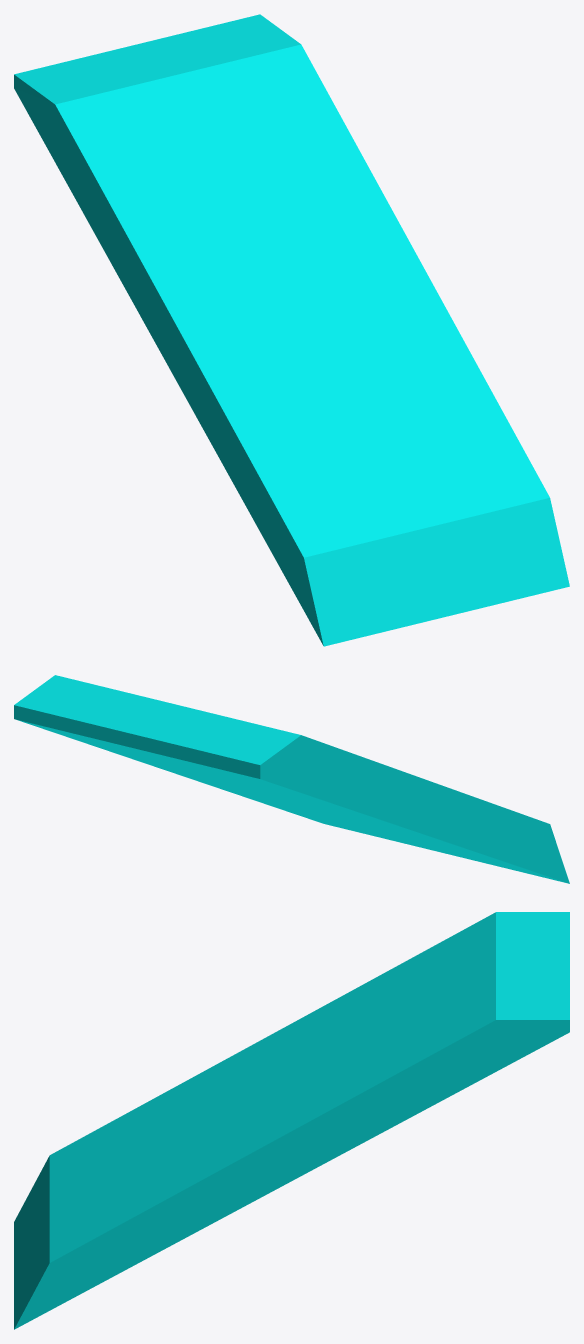
Rendered from SM_Bld_Stairs_03_Collision.fbx.
3 renders of one model, top to bottom at view 1: azimuth 30°, elevation 25°; view 2: azimuth 150°, elevation 25°; view 3: azimuth 270°, elevation 25°, orthographic. The views are drawn at different scales.
Parts seen in each view (by area): view 1: SM_Bld_Stairs_03_Collision; view 2: SM_Bld_Stairs_03_Collision; view 3: SM_Bld_Stairs_03_Collision.
Boxes of the visible parts, left/top/right/bottom form: SM_Bld_Stairs_03_Collision: left=14, top=14, right=569, bottom=646; SM_Bld_Stairs_03_Collision: left=14, top=675, right=569, bottom=883; SM_Bld_Stairs_03_Collision: left=14, top=912, right=569, bottom=1329.
Size of the model in its own units: 126 by 168 by 274.
